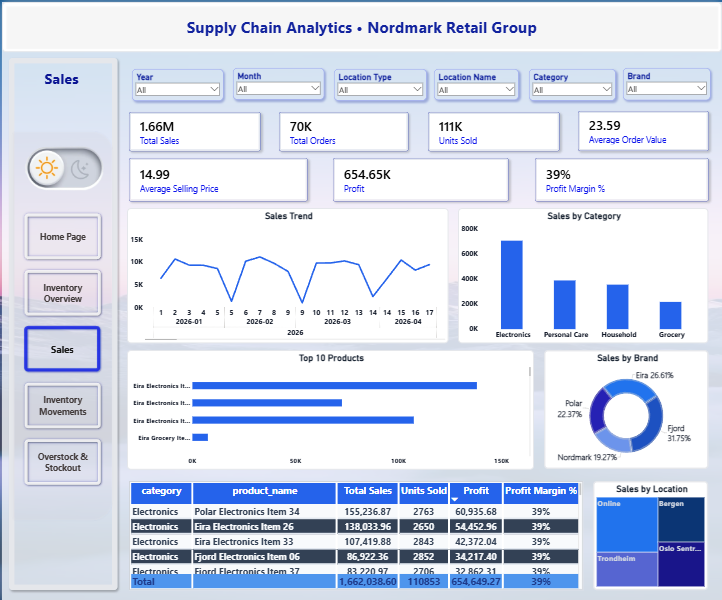

This screenshot's page, from the dashboard's own definition file:
{"tool":"powerbi","page":{"name":"Sales","canvas":[3600,3000],"ordinal":2},"visuals":[{"type":"slicer","fields":{"Values":["dim_date.Month (Short)"]},"box":[1152.7,332.7,456.4,158],"z":0,"group":"g3"},{"type":"cardVisual","fields":{"Data":["A Measures.Total Sales"]},"box":[635,548.2,658.2,196.2],"z":0,"group":"g1"},{"type":"cardVisual","fields":{"Data":["A Measures.Average Selling Price"]},"box":[635.9,779.5,893.2,216.8],"z":0,"group":"g2"},{"type":"shape","box":[33.7,280.5,542.4,2659.6],"z":1000},{"type":"slicer","fields":{"Values":["silver__location_master__lite.location_name"]},"box":[2162.2,335.8,423.3,155],"z":1000,"group":"g3"},{"type":"cardVisual","fields":{"Data":["A Measures.Total Orders"]},"box":[1385.1,548.2,647.1,196.2],"z":1000,"group":"g1"},{"type":"cardVisual","fields":{"Data":["A Measures.Profit"]},"box":[1653.9,779.5,878.2,216.8],"z":1000,"group":"g2"},{"type":"slicer","fields":{"Values":["silver__product_master__lite.brand"]},"box":[3104.7,331.7,436.5,161],"z":2000,"group":"g3"},{"type":"cardVisual","fields":{"Data":["A Measures.Units Sold"]},"box":[2127.8,548.2,658.2,196.2],"z":2000,"group":"g1"},{"type":"shape","box":[43.7,642.2,515,1960],"z":2000},{"type":"cardVisual","fields":{"Data":["A Measures.Profit Margin %"]},"box":[2663.7,777.7,867.8,217],"z":2000,"group":"g2"},{"type":"slicer","fields":{"Values":["silver__product_master__lite.category"]},"box":[2635.1,335.8,433.2,158],"z":3000,"group":"g3"},{"type":"cardVisual","fields":{"Data":["A Measures.Average Order Value"]},"box":[2881.1,545,653.9,200.3],"z":3000,"group":"g1"},{"type":"slicer","fields":{"Values":["dim_date.Year"]},"box":[649.7,335.8,457.4,159.4],"z":4000,"group":"g3"},{"type":"group","id":"g1","title":"Group 2","box":[635,545,2900,200.3],"z":4000},{"type":"slicer","fields":{"Values":["silver__location_master__lite.location_type"]},"box":[1658.4,335.8,463,158],"z":5000,"group":"g3"},{"type":"group","id":"g2","title":"Group 2","box":[635.9,777.7,2895.6,218.6],"z":6000},{"type":"lineChart","title":"Sales Trend","fields":{"Category":["dim_date.Year","dim_date.Year-Month","dim_date.ISO Week Number"],"Y":["A Measures.Total Sales"]},"box":[624.7,1028.7,1608.5,677.1],"z":10000},{"type":"clusteredColumnChart","title":"Sales by Category","fields":{"Category":["silver__product_master__lite.category"],"Y":["A Measures.Total Sales"]},"box":[2280,1030,1252.4,676.7],"z":11000},{"type":"pageNavigator","box":[99.9,1042.8,407.5,1386.5],"z":12000},{"type":"image","box":[41.1,669.6,540,300],"z":13000},{"type":"textbox","box":[74.8,325.4,445.1,351.6],"z":14000},{"type":"shape","box":[0,0,3598.5,250.6],"z":15000},{"type":"clusteredBarChart","title":"Top 10 Products","fields":{"Category":["silver__product_master__lite.product_name"],"Y":["A Measures.Total Sales"]},"box":[624.7,1739.4,2034.9,598.5],"z":21000},{"type":"donutChart","title":"Sales by Brand","fields":{"Category":["silver__product_master__lite.brand"],"Y":["A Measures.Total Sales"]},"box":[2708.2,1739.4,822.9,594.8],"z":22000},{"type":"tableEx","fields":{"Values":["silver__product_master__lite.category","silver__product_master__lite.product_name","A Measures.Total Sales","A Measures.Units Sold","A Measures.Profit","A Measures.Profit Margin %"]},"box":[635.9,2394,2270.6,546.1],"z":23000},{"type":"treemap","title":"Sales by Location","fields":{"Group":["silver__location_master__lite.location_name"],"Values":["A Measures.Total Sales"]},"box":[2955.1,2394,576.1,546.1],"z":24000},{"type":"group","id":"g3","title":"Group 1","box":[649.7,331.7,2891.5,157.1],"z":28000}]}

Visuals, with their boxes in screenshot pixels (x1, y1, x2, y2), scaled from the page's 3600x3000 canvas onto the 722x600 screenshot:
slicer - dim_date.Month (Short): bbox=[231, 67, 323, 98]
cardVisual - A Measures.Total Sales: bbox=[127, 110, 259, 149]
cardVisual - A Measures.Average Selling Price: bbox=[128, 156, 307, 199]
shape: bbox=[7, 56, 116, 588]
slicer - silver__location_master__lite.location_name: bbox=[434, 67, 519, 98]
cardVisual - A Measures.Total Orders: bbox=[278, 110, 408, 149]
cardVisual - A Measures.Profit: bbox=[332, 156, 508, 199]
slicer - silver__product_master__lite.brand: bbox=[623, 66, 710, 99]
cardVisual - A Measures.Units Sold: bbox=[427, 110, 559, 149]
shape: bbox=[9, 128, 112, 520]
cardVisual - A Measures.Profit Margin %: bbox=[534, 156, 708, 199]
slicer - silver__product_master__lite.category: bbox=[528, 67, 615, 99]
cardVisual - A Measures.Average Order Value: bbox=[578, 109, 709, 149]
slicer - dim_date.Year: bbox=[130, 67, 222, 99]
"Group 2" group: bbox=[127, 109, 709, 149]
slicer - silver__location_master__lite.location_type: bbox=[333, 67, 425, 99]
"Group 2" group: bbox=[128, 156, 708, 199]
"Sales Trend" lineChart: bbox=[125, 206, 448, 341]
"Sales by Category" clusteredColumnChart: bbox=[457, 206, 708, 341]
pageNavigator: bbox=[20, 209, 102, 486]
image: bbox=[8, 134, 117, 194]
textbox: bbox=[15, 65, 104, 135]
shape: bbox=[0, 0, 721, 50]
"Top 10 Products" clusteredBarChart: bbox=[125, 348, 533, 468]
"Sales by Brand" donutChart: bbox=[543, 348, 708, 467]
tableEx - silver__product_master__lite.category x silver__product_master__lite.product_name: bbox=[128, 479, 583, 588]
"Sales by Location" treemap: bbox=[593, 479, 708, 588]
"Group 1" group: bbox=[130, 66, 710, 98]
